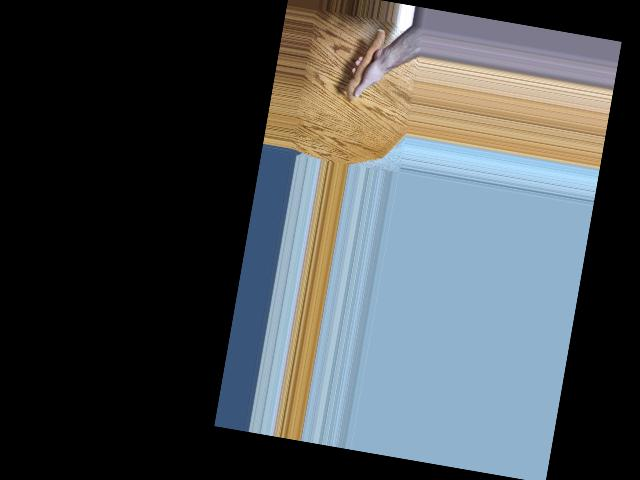sweet_potato: (342, 23, 389, 103)
